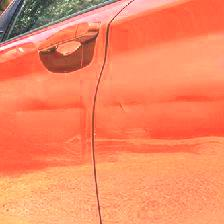door_dent: (43, 32, 127, 174)
